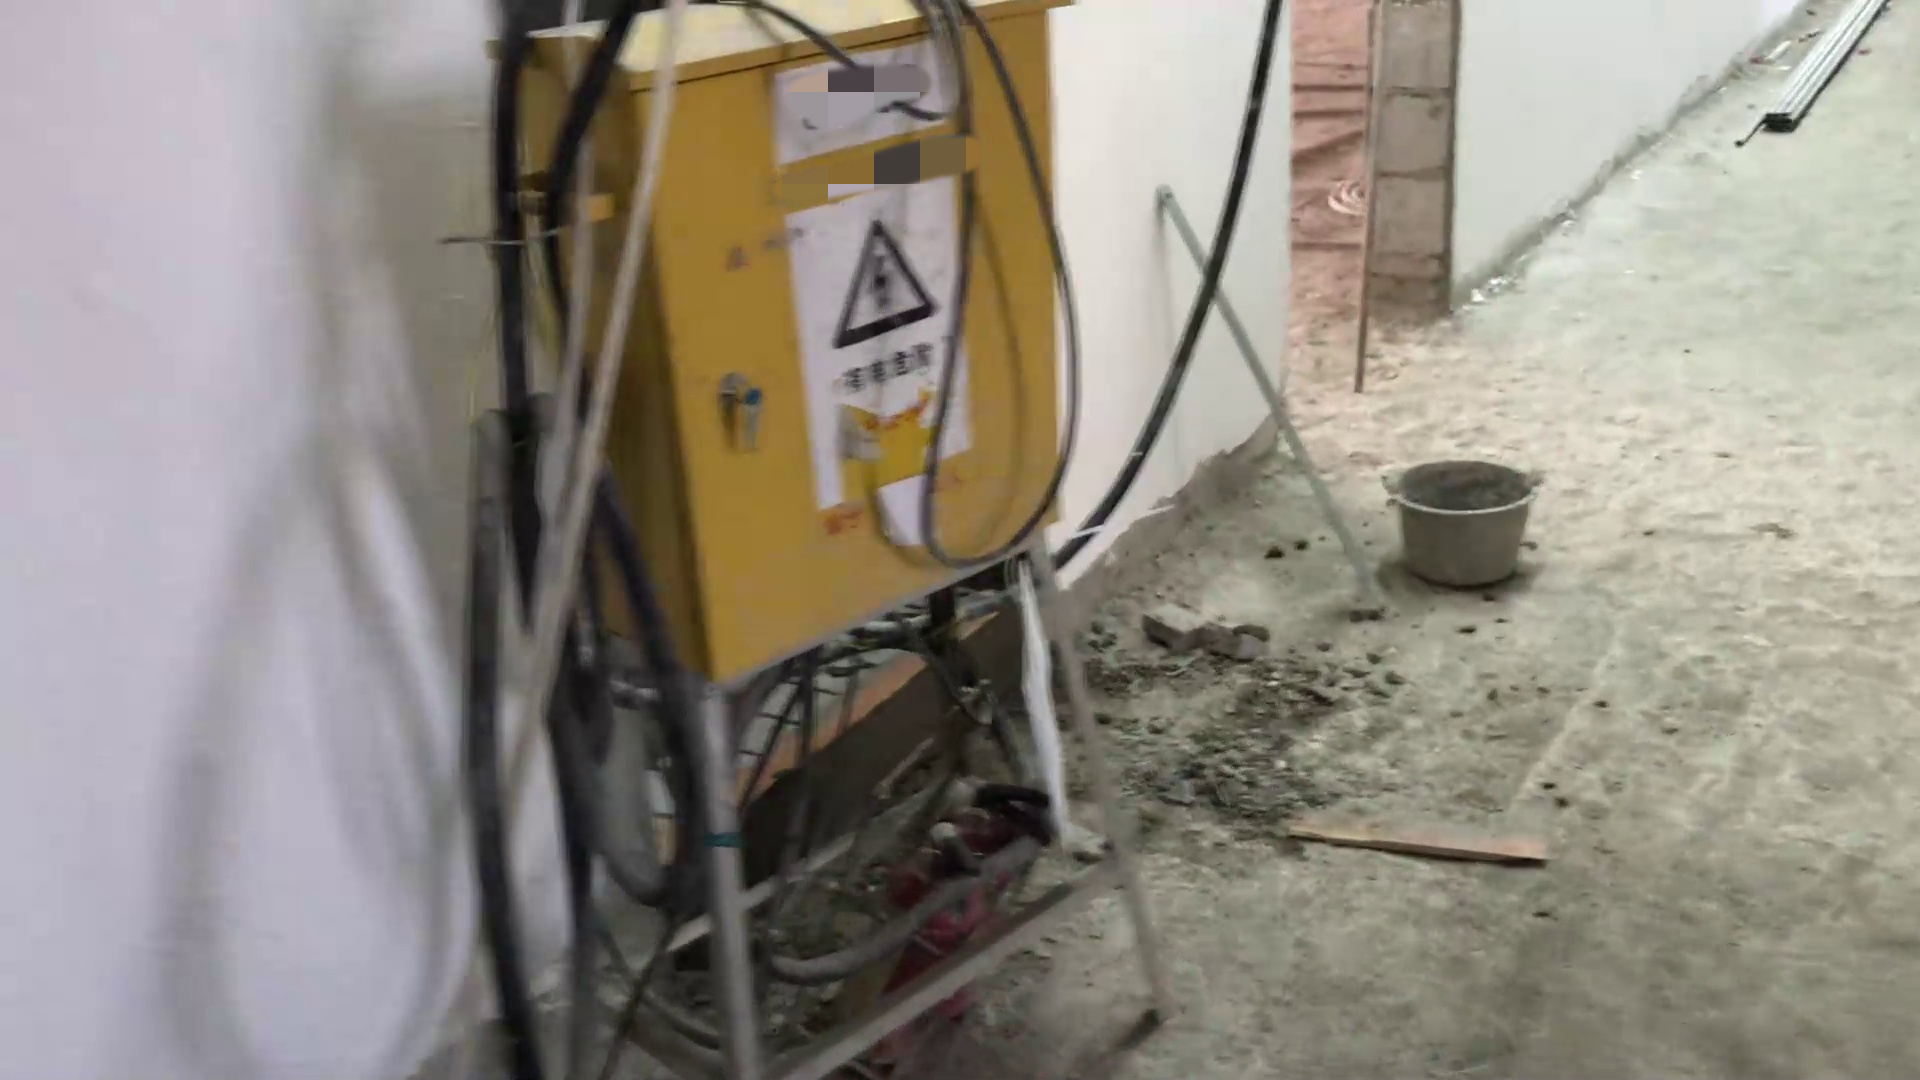ebox: (427, 8, 1237, 1068)
